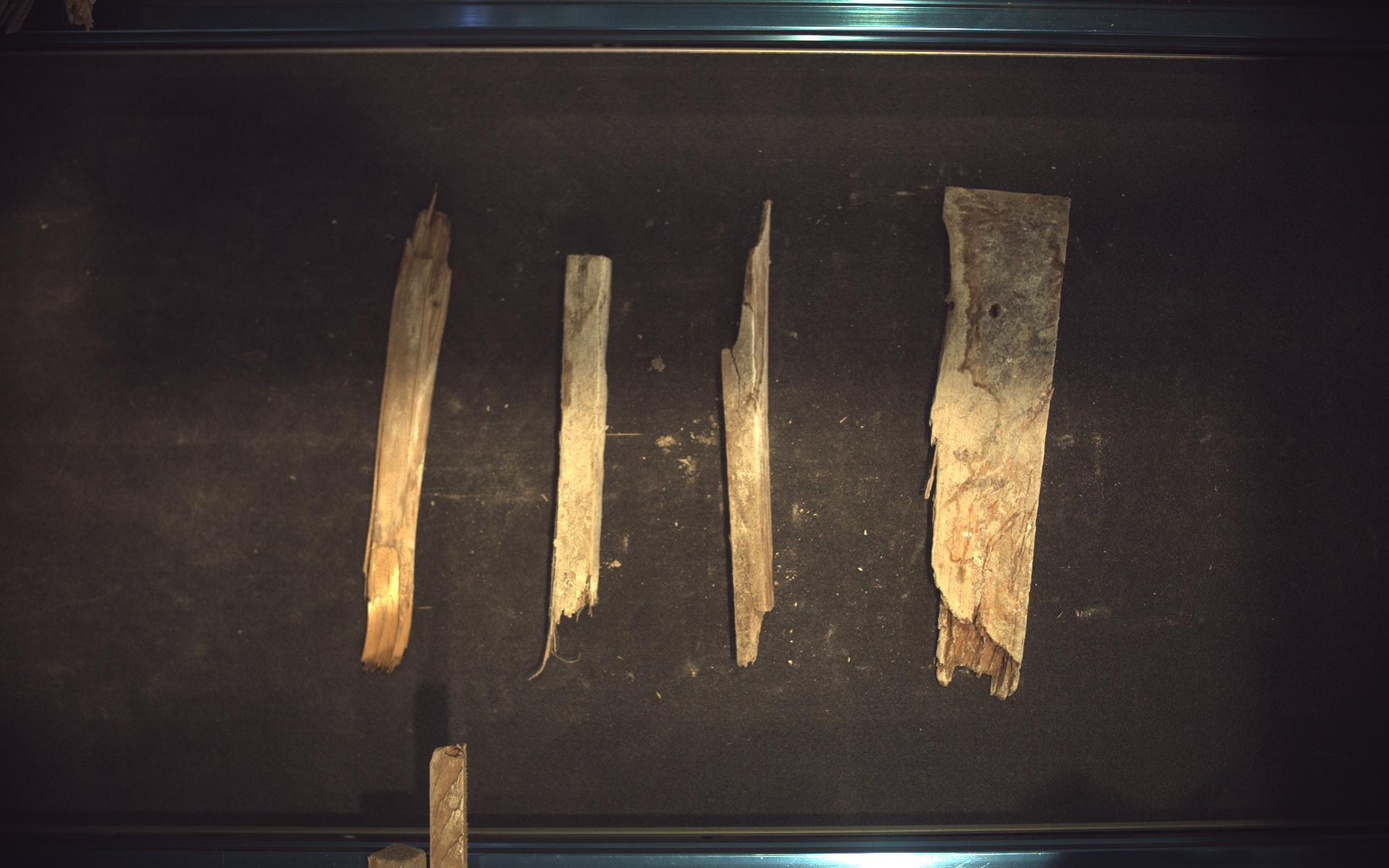wood: (927, 186, 1073, 700), (362, 190, 451, 673), (531, 254, 612, 680), (722, 199, 775, 668)
